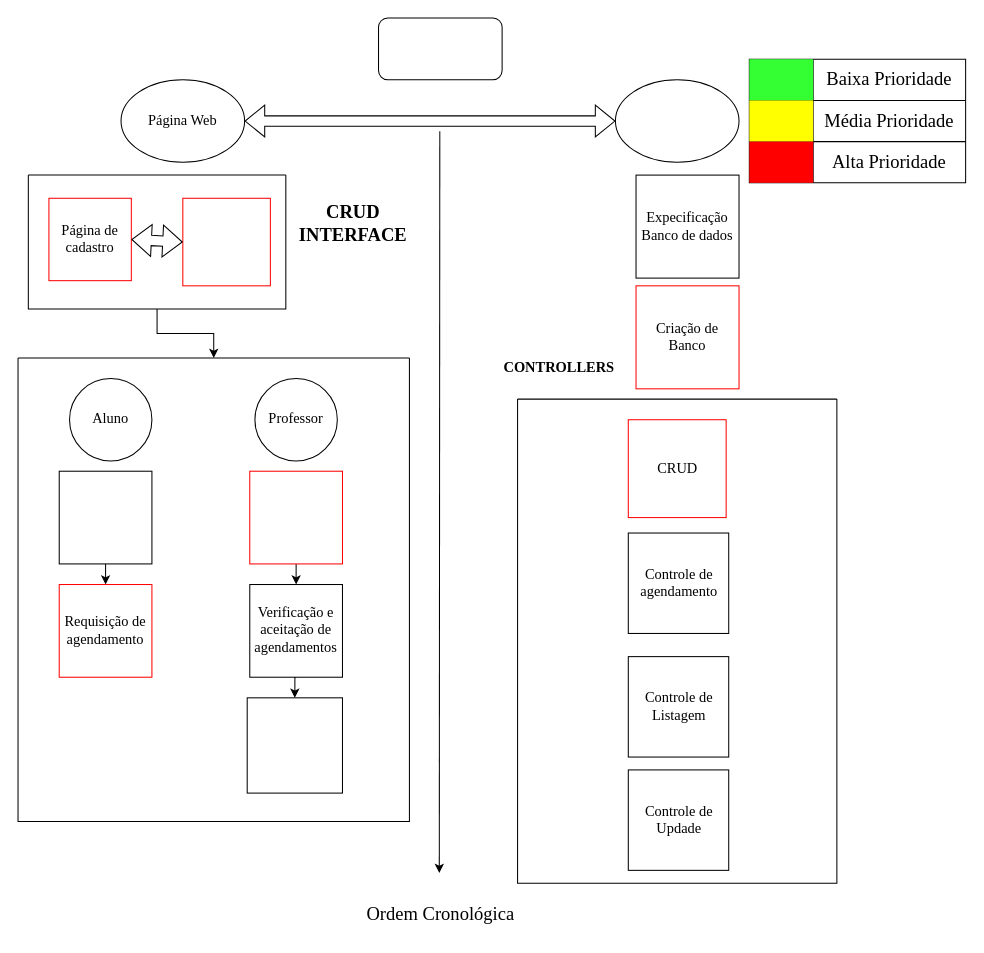
The diagram is 984 pixels wide and 953 high, and some of its shapes have lost their labels. Here are the shapes that lost their labels. From the top down, the centre of each, then its label:
At (x=439, y=48): "Diagrama de Processo".
At (x=676, y=120): "Rest API".
At (x=226, y=241): "Página de login".
At (x=105, y=517): "Página de lista de professores".
At (x=295, y=517): "Lista de agendamentos Feitos".
At (x=294, y=745): "Página de update de horários e dias".
